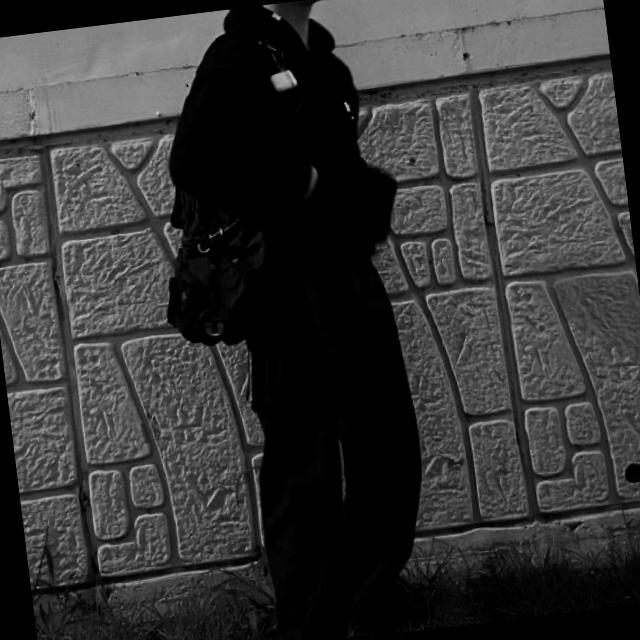cottonpants: (233, 251, 448, 640)
hoodies: (148, 0, 401, 284)
